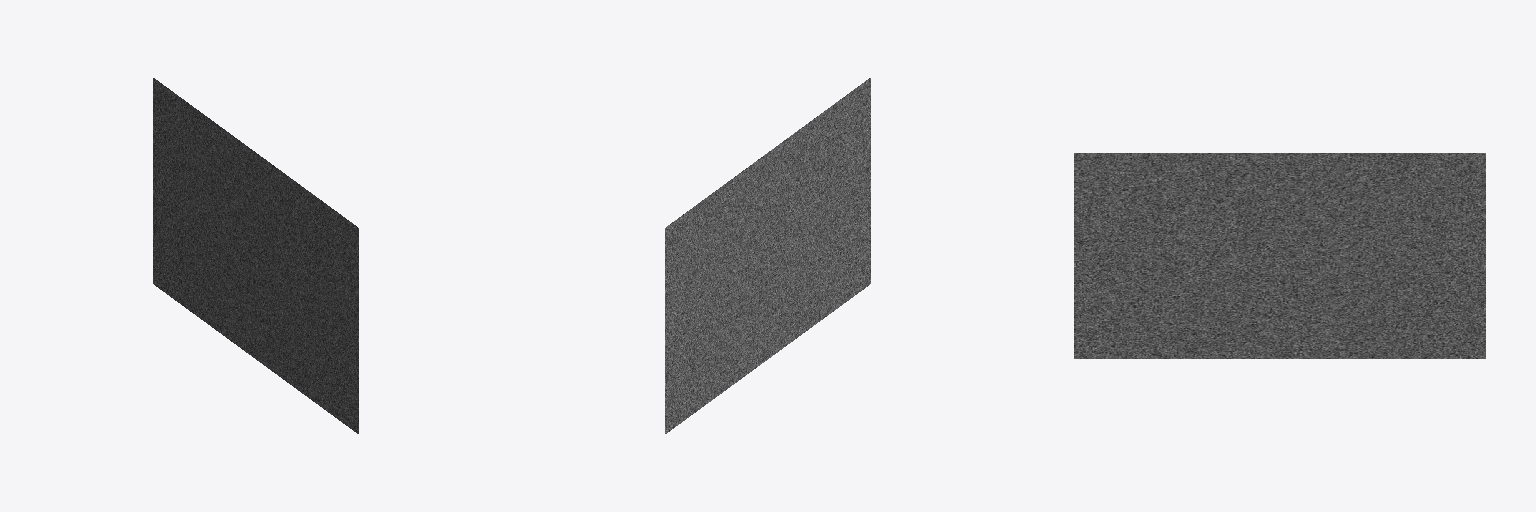
The picture shows the model from 3 angles: view 1: azimuth 30°, elevation 25°; view 2: azimuth 150°, elevation 25°; view 3: azimuth 270°, elevation 25°; orthographic projection.
Parts seen in each view (by area): view 1: pPlane1; view 2: pPlane1; view 3: pPlane1.
Part boxes in pixels (x1,y1,x2,y2): pPlane1: (153,78,358,433); pPlane1: (665,78,870,433); pPlane1: (1074,153,1485,358).
Size of the model in its own units: 0 by 1.22 by 2.21.
1 materials, 1 textured.